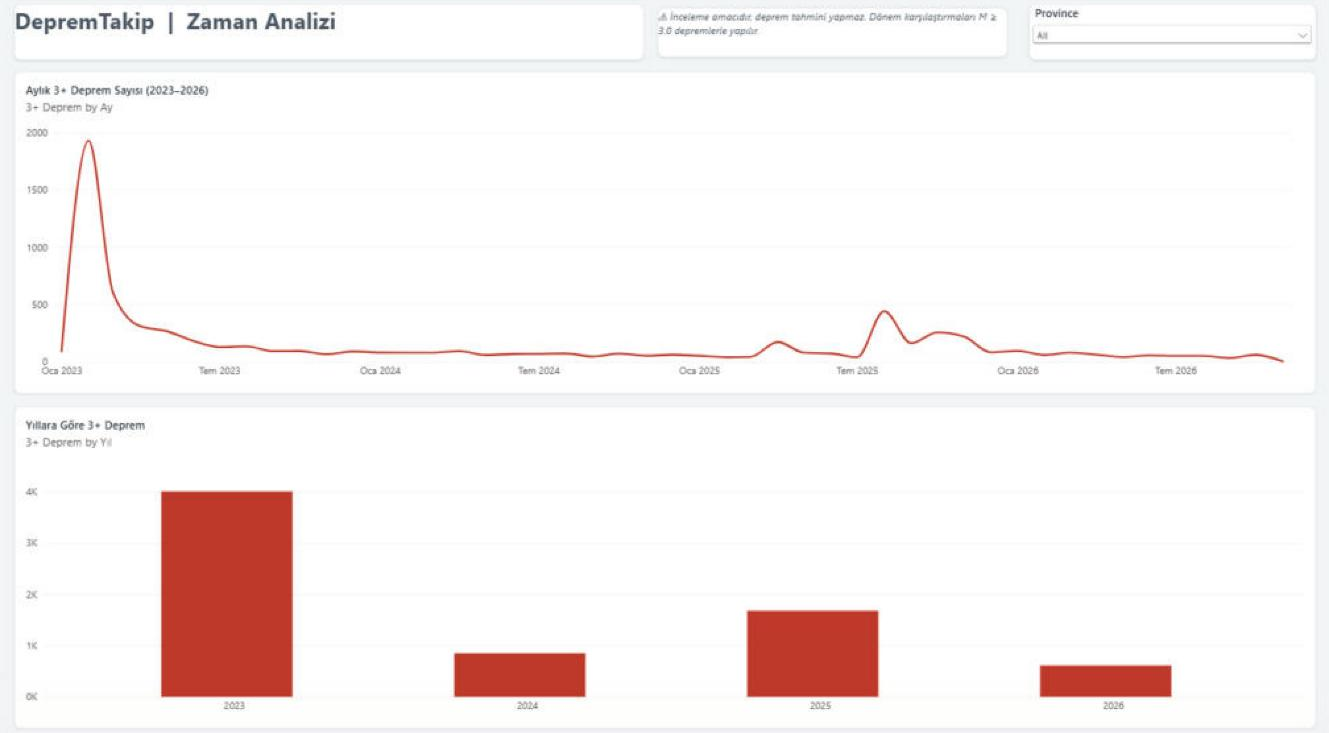

What the dashboard file says about the page in this screenshot:
{"tool":"powerbi","page":{"name":"Zaman Analizi","canvas":[1920,1080],"ordinal":1},"visuals":[{"type":"lineChart","title":"Aylık 3+ Deprem Sayısı (2023–2026)","fields":{"Category":["Earthquakes.Ay"],"Y":["Earthquakes.3+ Deprem"]},"box":[30,110,1860,460],"z":0},{"type":"clusteredColumnChart","title":"Yıllara Göre 3+ Deprem","fields":{"Category":["Earthquakes.Yıl"],"Y":["Earthquakes.3+ Deprem"]},"box":[30,590,1860,460],"z":1000},{"type":"textbox","box":[30,15,900,80],"z":1001},{"type":"slicer","fields":{"Values":["Earthquakes.Province"]},"box":[1480,15,410,80],"z":1002},{"type":"textbox","box":[950,20,500,70],"z":1003}]}

Visuals, with their boxes in screenshot pixels (x1, y1, x2, y2), scaled from the page's 1920x1080 canvas onto the 1329x733 screenshot:
"Aylık 3+ Deprem Sayısı (2023–2026)" lineChart: left=21, top=75, right=1308, bottom=387
"Yıllara Göre 3+ Deprem" clusteredColumnChart: left=21, top=400, right=1308, bottom=713
textbox: left=21, top=10, right=644, bottom=64
slicer - Earthquakes.Province: left=1024, top=10, right=1308, bottom=64
textbox: left=658, top=14, right=1004, bottom=61
